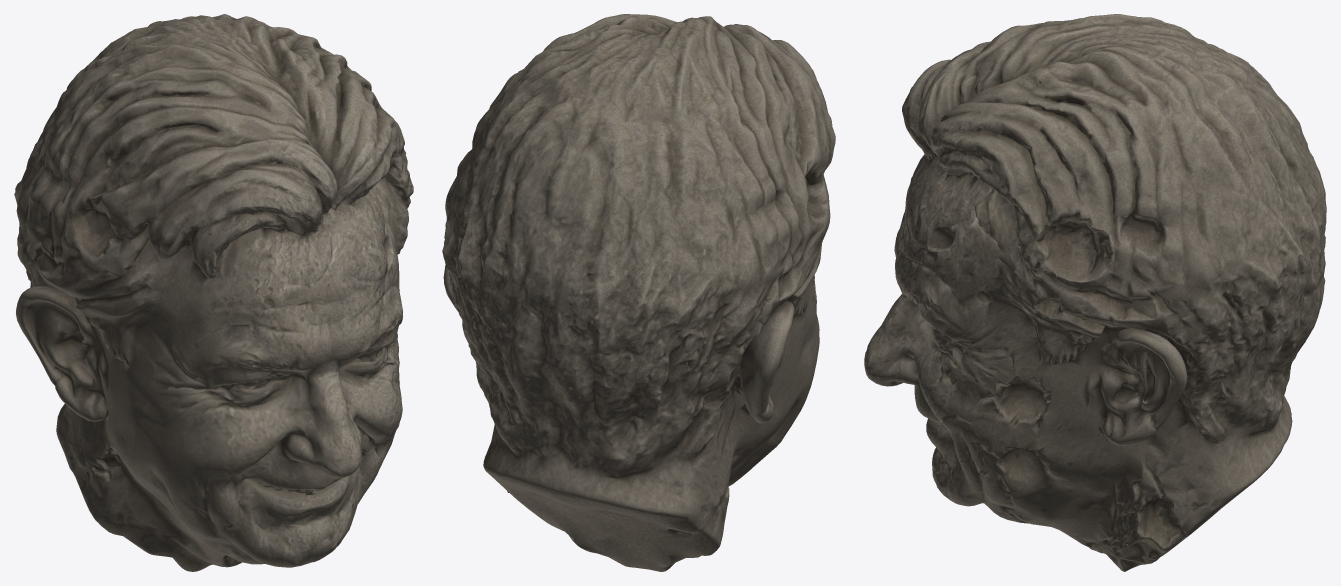
The model's file is Zarnecki.glb.
The picture shows the model from 3 angles, left to right: view 1: azimuth 30°, elevation 25°; view 2: azimuth 150°, elevation 25°; view 3: azimuth 270°, elevation 25°; orthographic projection. The views are drawn at different scales.
Bounding box in the file's own units: 1.28 × 1.9 × 1.51.
Materials: 1 (1 with a texture image).
